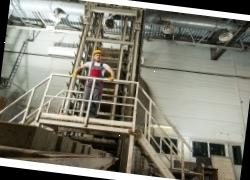helmet: (93, 48, 103, 54)
